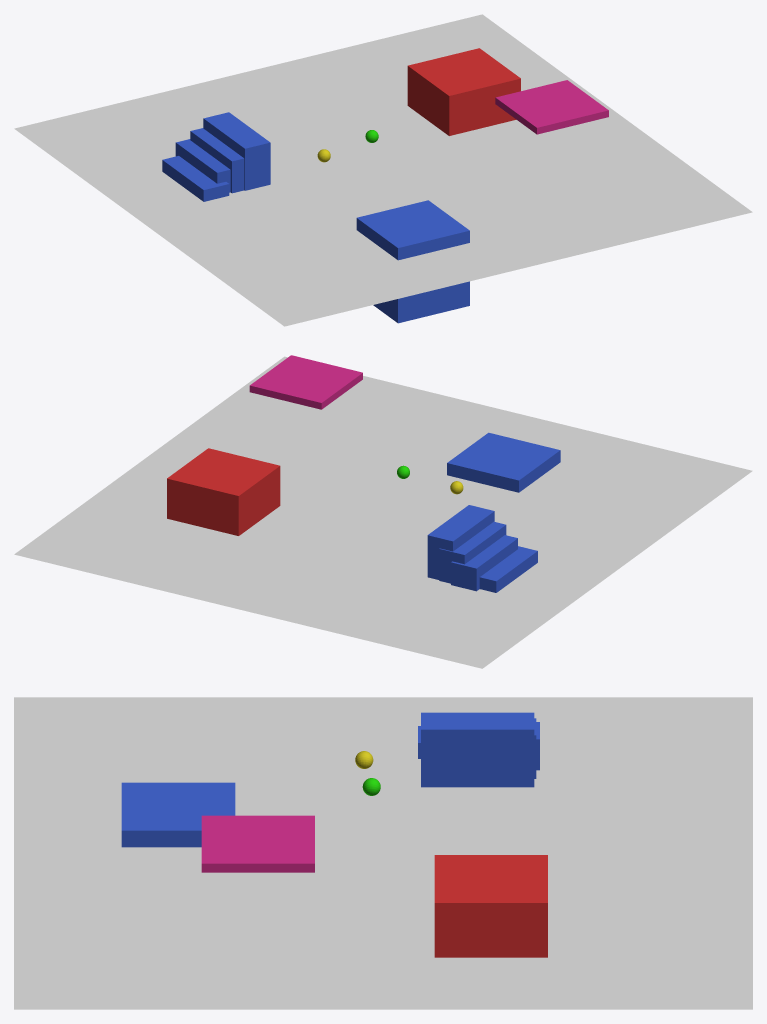
Rendered from FPS_map.dae.
3 views of the same model, one above another, from view 1: azimuth 30°, elevation 25°; view 2: azimuth 150°, elevation 25°; view 3: azimuth 270°, elevation 25° (orthographic). The views are drawn at different scales.
Parts seen in each view (by area): view 1: Ground-col, Cube-col, Cube2-col, Liftas-col, pakopa3-col, pakopa0-col, pakopa2-col, pakopa1-col; view 2: Ground-col, Cube-col, Cube2-col, Liftas-col, pakopa3-col, pakopa1-col, pakopa2-col, pakopa0-col; view 3: Ground-col, Cube-col, pakopa3-col, Liftas-col, Cube2-col.
Part boxes in pixels (x1=…): Ground-col: x1=14, y1=14, x2=752, y2=326; Cube-col: x1=407, y1=48, x2=520, y2=135; Cube2-col: x1=356, y1=200, x2=469, y2=323; Liftas-col: x1=495, y1=80, x2=608, y2=134; pakopa3-col: x1=203, y1=112, x2=270, y2=190; pakopa0-col: x1=162, y1=156, x2=229, y2=201; pakopa2-col: x1=190, y1=128, x2=244, y2=193; pakopa1-col: x1=175, y1=139, x2=230, y2=192; Ground-col: x1=14, y1=356, x2=752, y2=668; Cube-col: x1=167, y1=448, x2=280, y2=535; Cube2-col: x1=447, y1=432, x2=560, y2=492; Liftas-col: x1=249, y1=355, x2=362, y2=409; pakopa3-col: x1=427, y1=505, x2=494, y2=579; pakopa1-col: x1=451, y1=535, x2=517, y2=591; pakopa2-col: x1=439, y1=521, x2=506, y2=583; pakopa0-col: x1=479, y1=546, x2=537, y2=592; Ground-col: x1=14, y1=697, x2=752, y2=1009; Cube-col: x1=434, y1=855, x2=547, y2=957; pakopa3-col: x1=421, y1=712, x2=534, y2=787; Liftas-col: x1=201, y1=815, x2=314, y2=872; Cube2-col: x1=121, y1=782, x2=235, y2=847.
Bounding box in the file's own units: 13.03 × 13.03 × 3.55.
